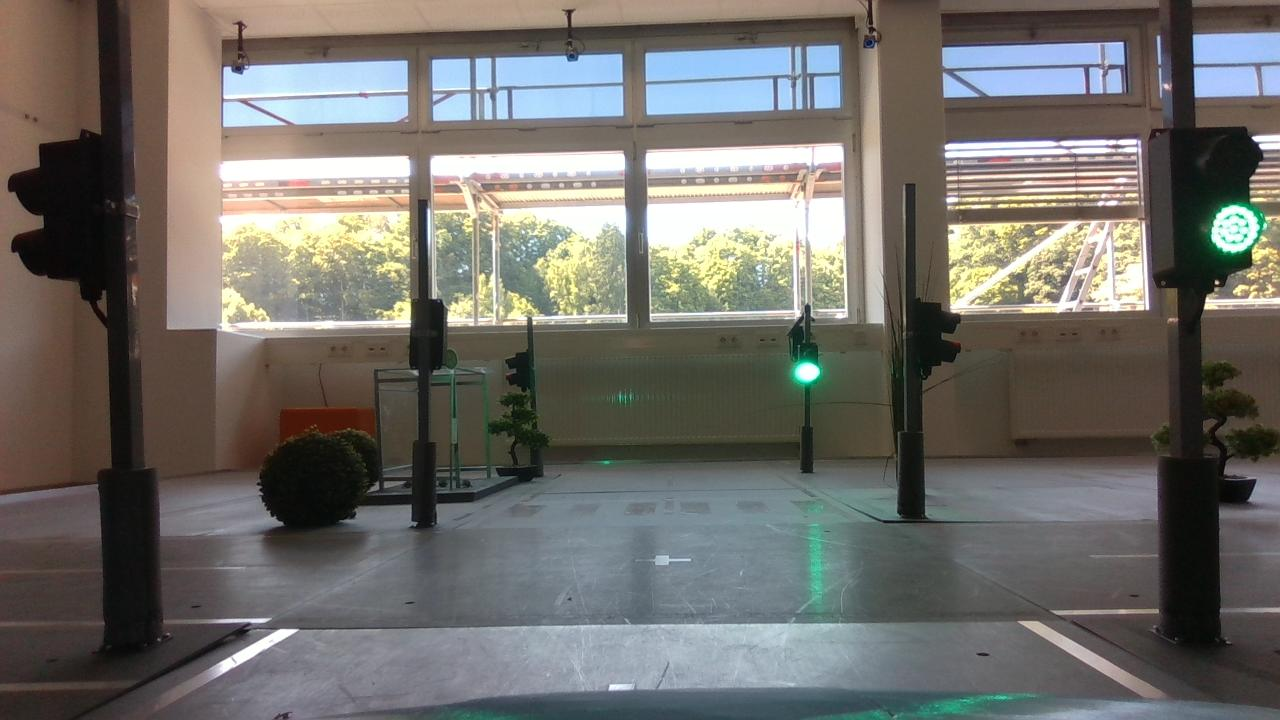traffic_light_green: (1129, 116, 1265, 297)
